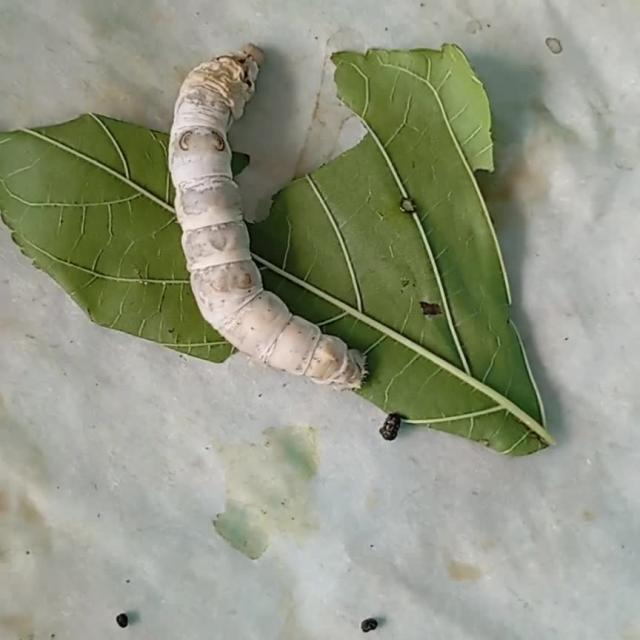Grasserie: (152, 25, 374, 402)
